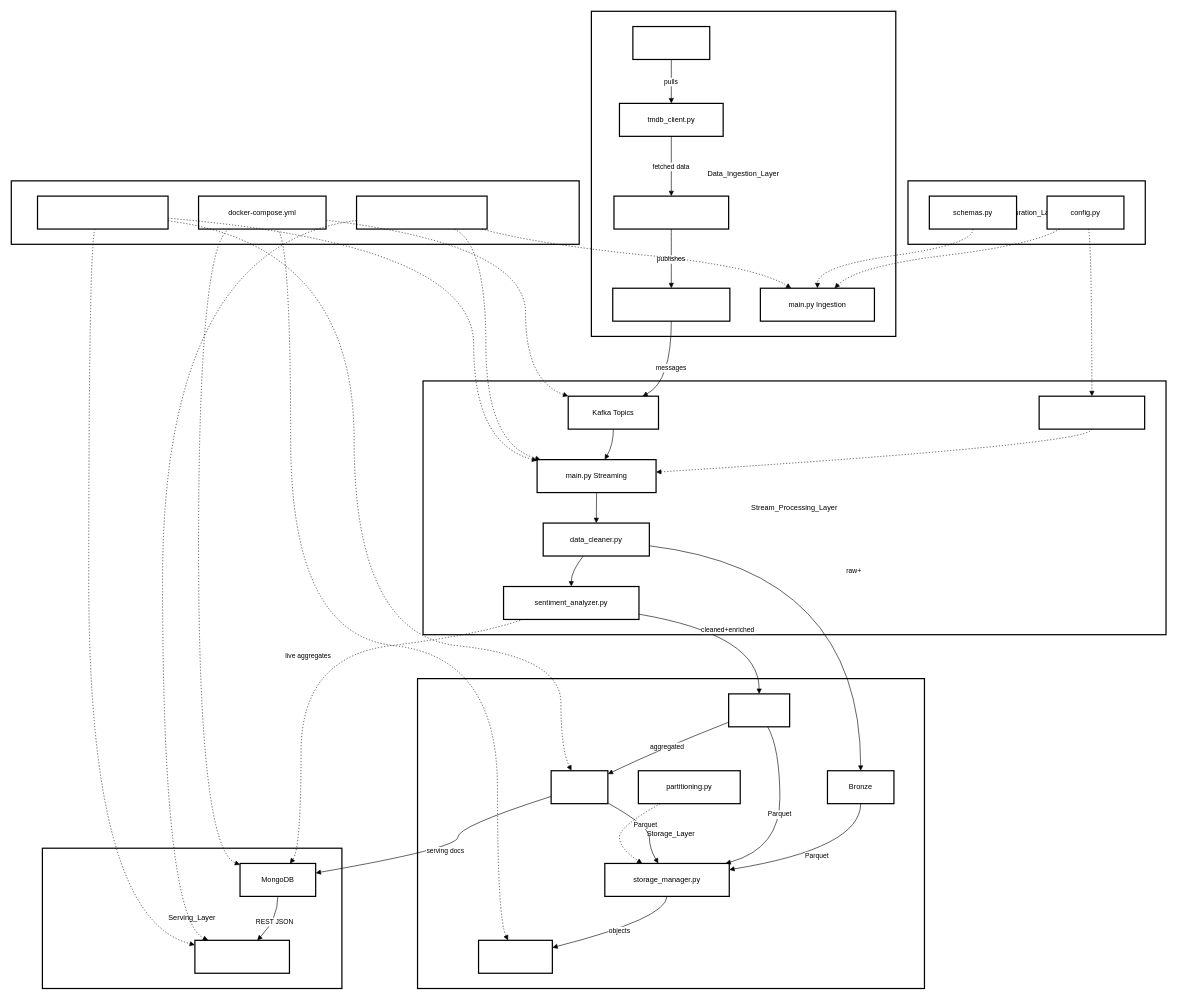
Image size: 1177x999. Some labels were removed from this diagram. The centre of each missing label's shape, as x and y in pixels:
"api_server.py" goes at pixel 242 956.
"data_extractor.py" goes at pixel 671 212.
"Gold" goes at pixel 579 787.
"Grafana and Superset" goes at pixel 102 212.
"kafka_producer.py" goes at pixel 671 304.
"Kubernetes manifests" goes at pixel 421 212.
"MinIO S3" goes at pixel 515 956.
"Silver" goes at pixel 759 710.
"spark_config.py" goes at pixel 1091 412.
"TMDB API" goes at pixel 671 43.
